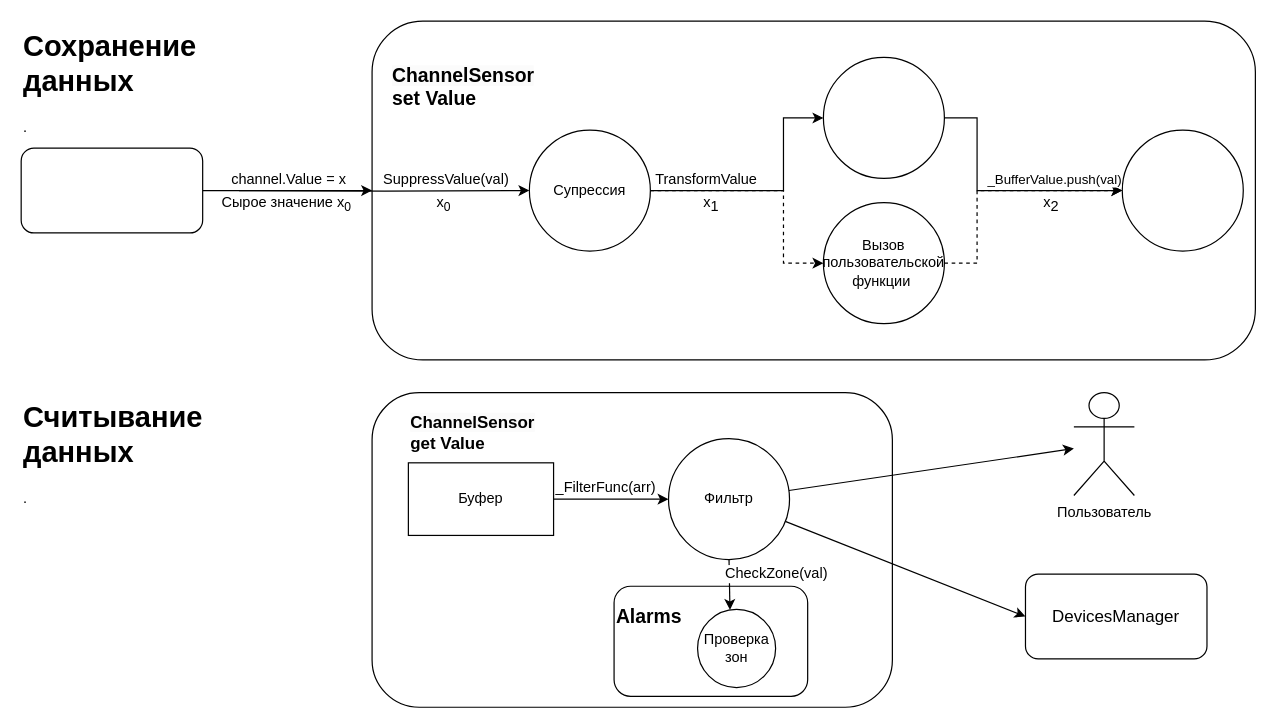
Some shapes in this 1277 by 728 pixel diagram are drawn without their labels. The shapes that lost their labels are listed below. From the top down, each one's centre as x and y in pixels, then its label:
the point at 883,117: Линейное преобразование
the point at 111,190: Sensor
the point at 1182,190: Добавление в буфер
